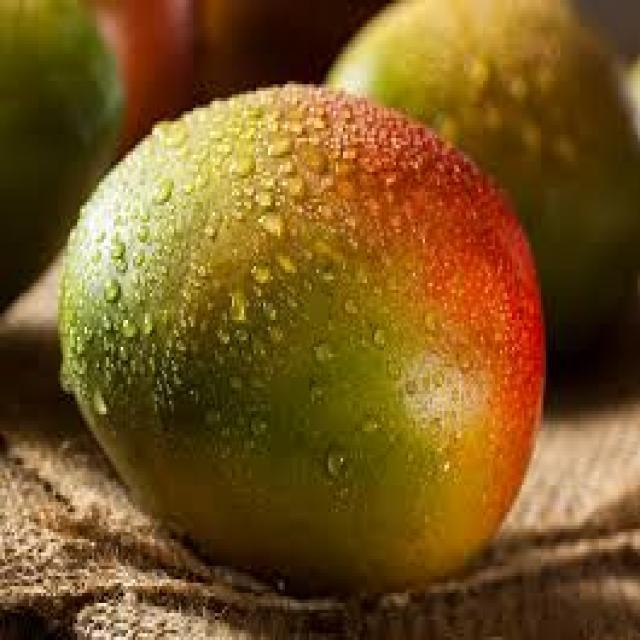Mango: (61, 84, 550, 586)
